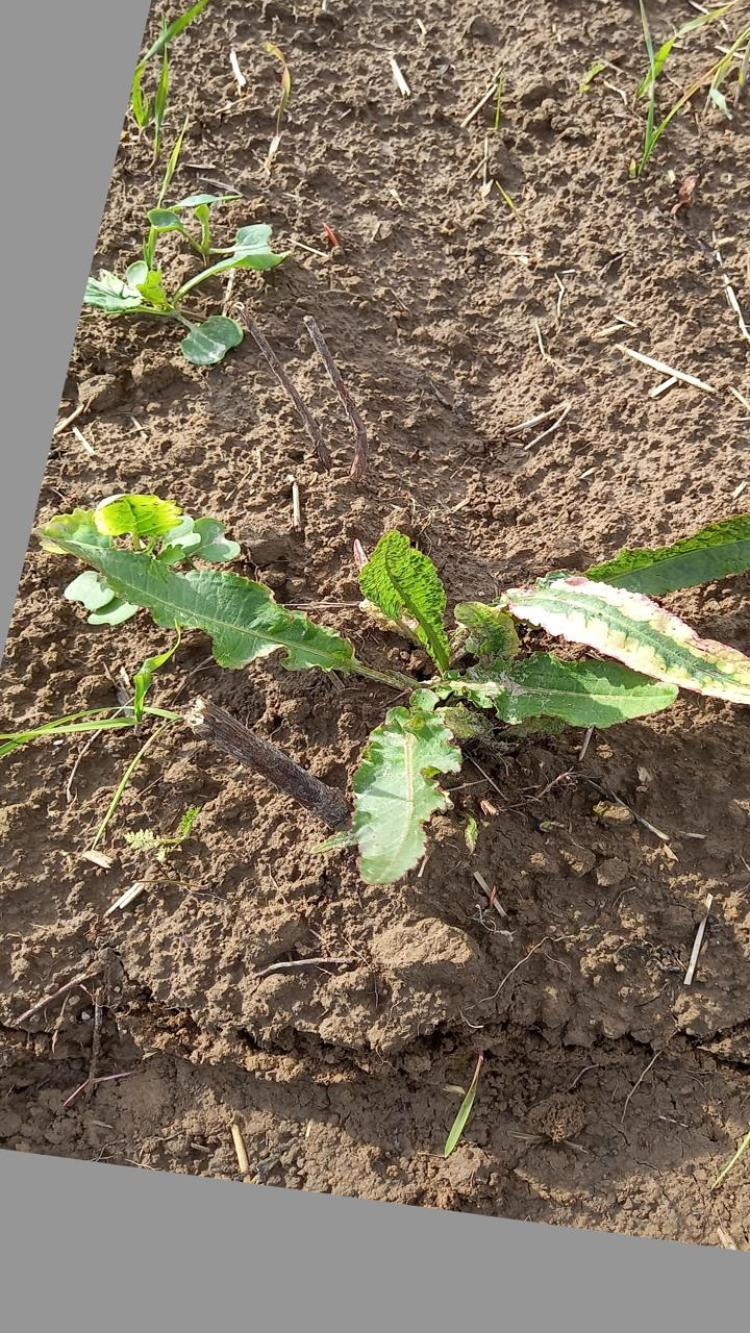zhavel: (31, 491, 750, 892)
